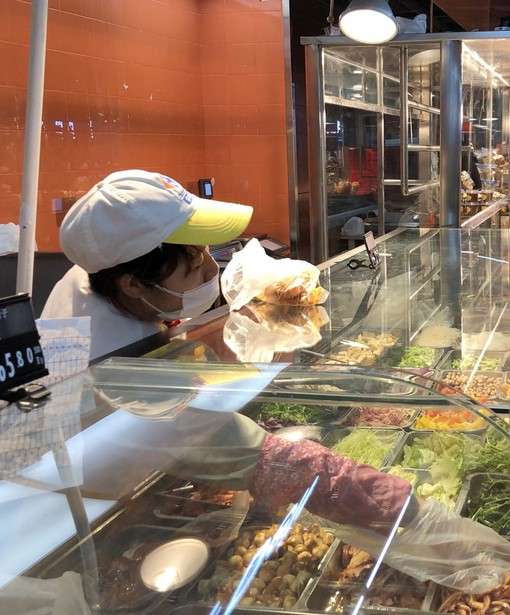face_with_mask: (71, 168, 225, 323)
